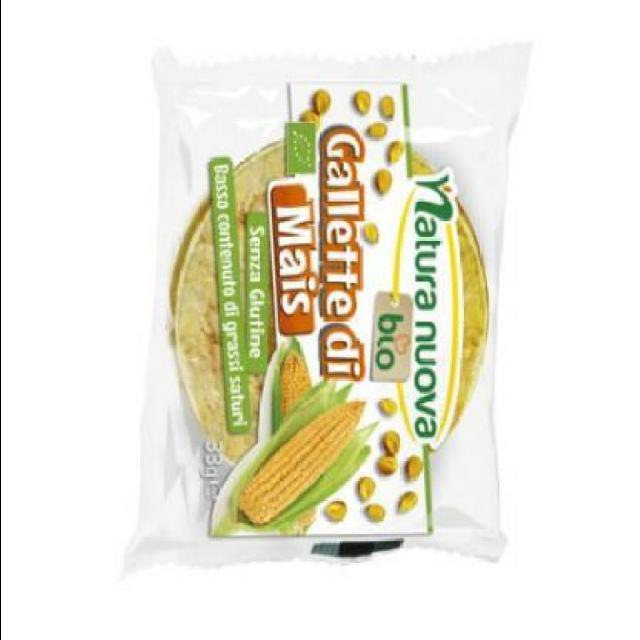Gallette di riso: (120, 24, 542, 592)
